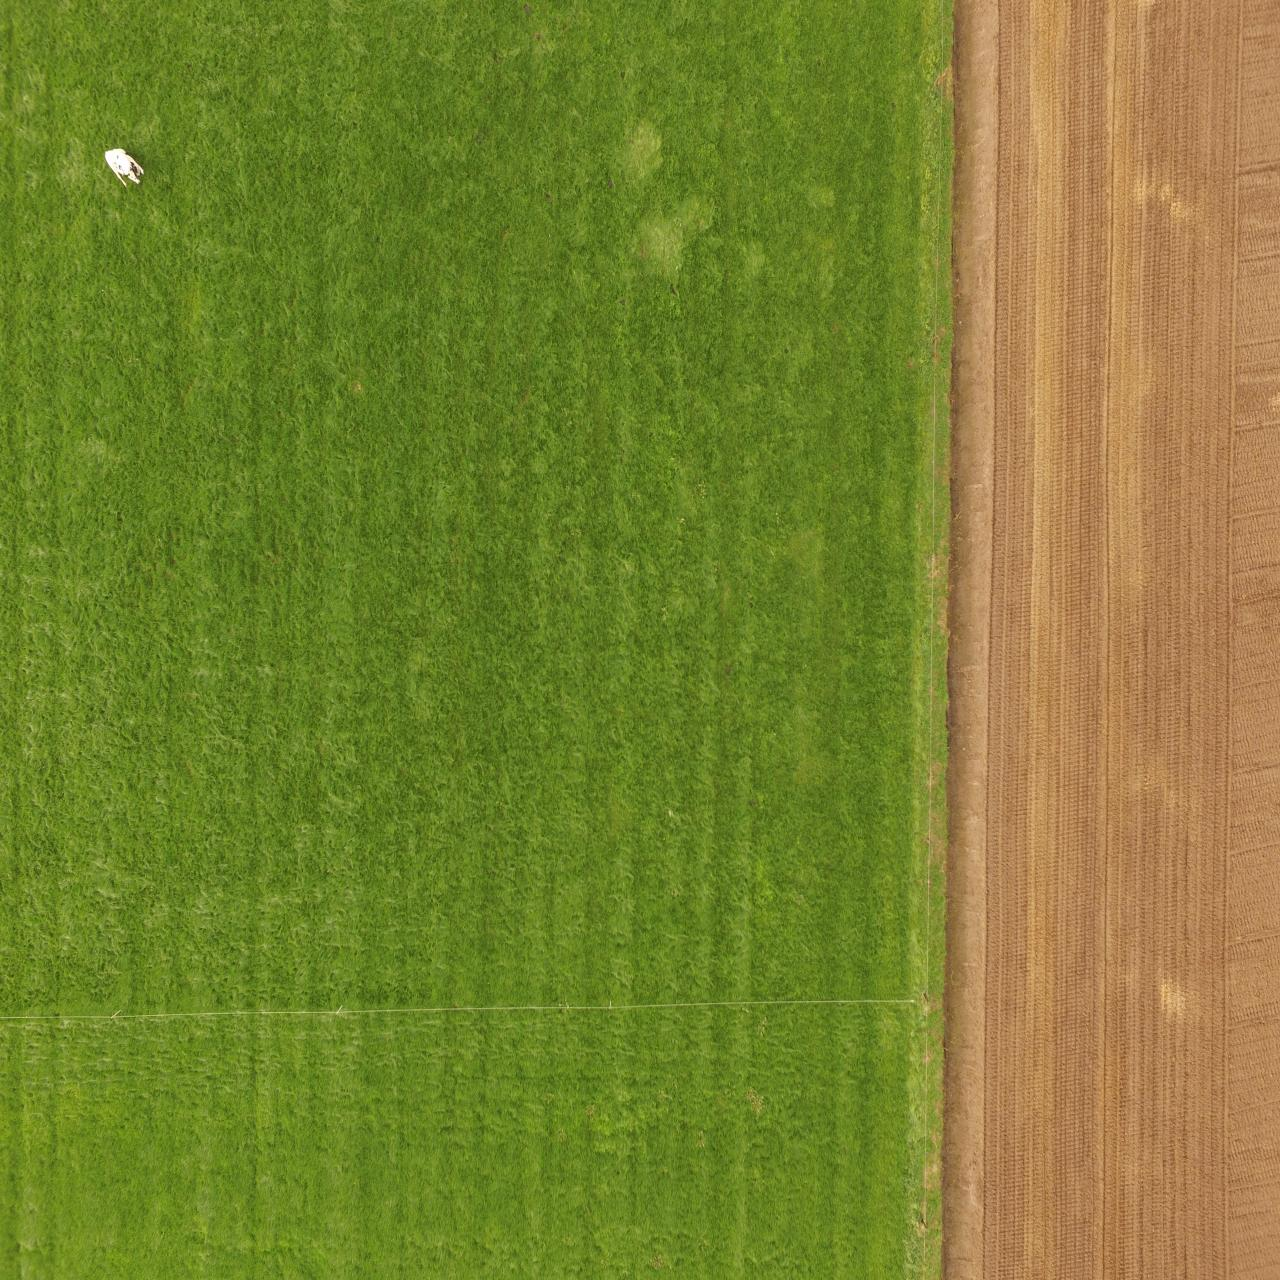cow: (101, 143, 146, 192)
